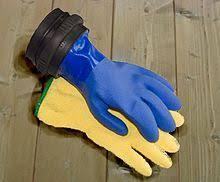gloves: (25, 7, 182, 143), (34, 75, 185, 179)
